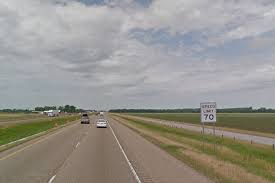speedLimit70: (199, 101, 217, 125)
